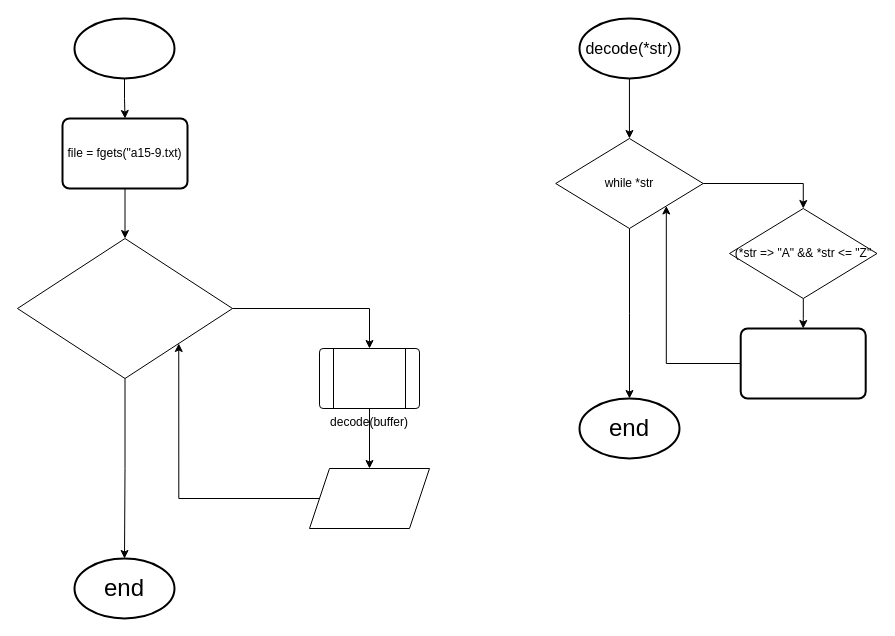
Image size: 895x636. Some labels were removed from this diagram. The shapes that lost their labels are listed below. From the top down, each one's centre as x and y in pixels, then its label:
point 124,48: start
point 124,308: if(fgets(buffer, sizeof(buffer), file)
point 802,363: *str = (*str - "A" + 6) % 26 +"A"
point 369,498: output "Output: ", buffer
